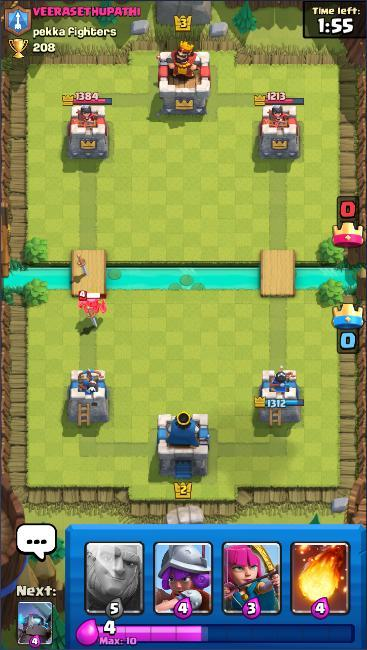enemy_mini_pekka: (76, 289, 110, 320)
